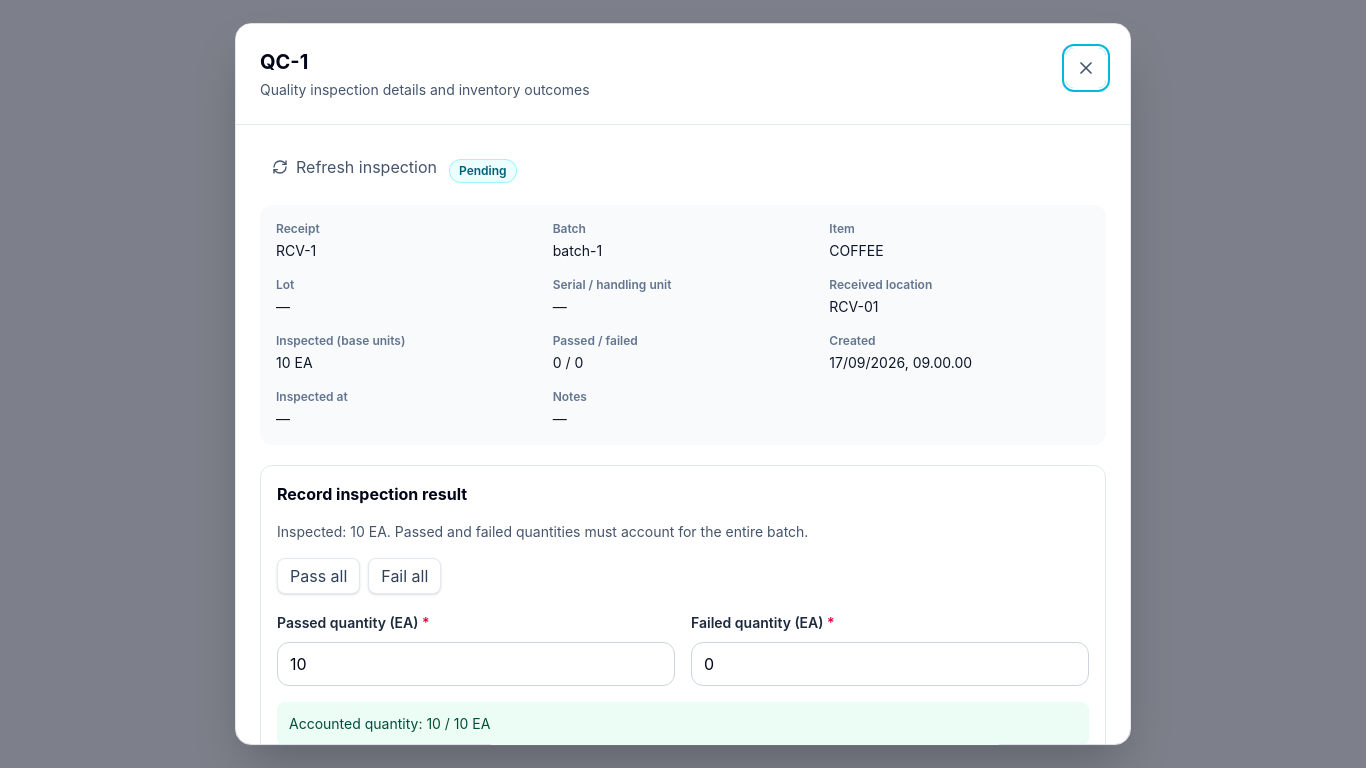
Scenario: QC result workflow › reports an invalid total inline and with a toast before completing a rejection
This screenshot has width=1366, height=768.
Click the button "Fail all". click: (405, 576)
box: 368,558 -> 441,594
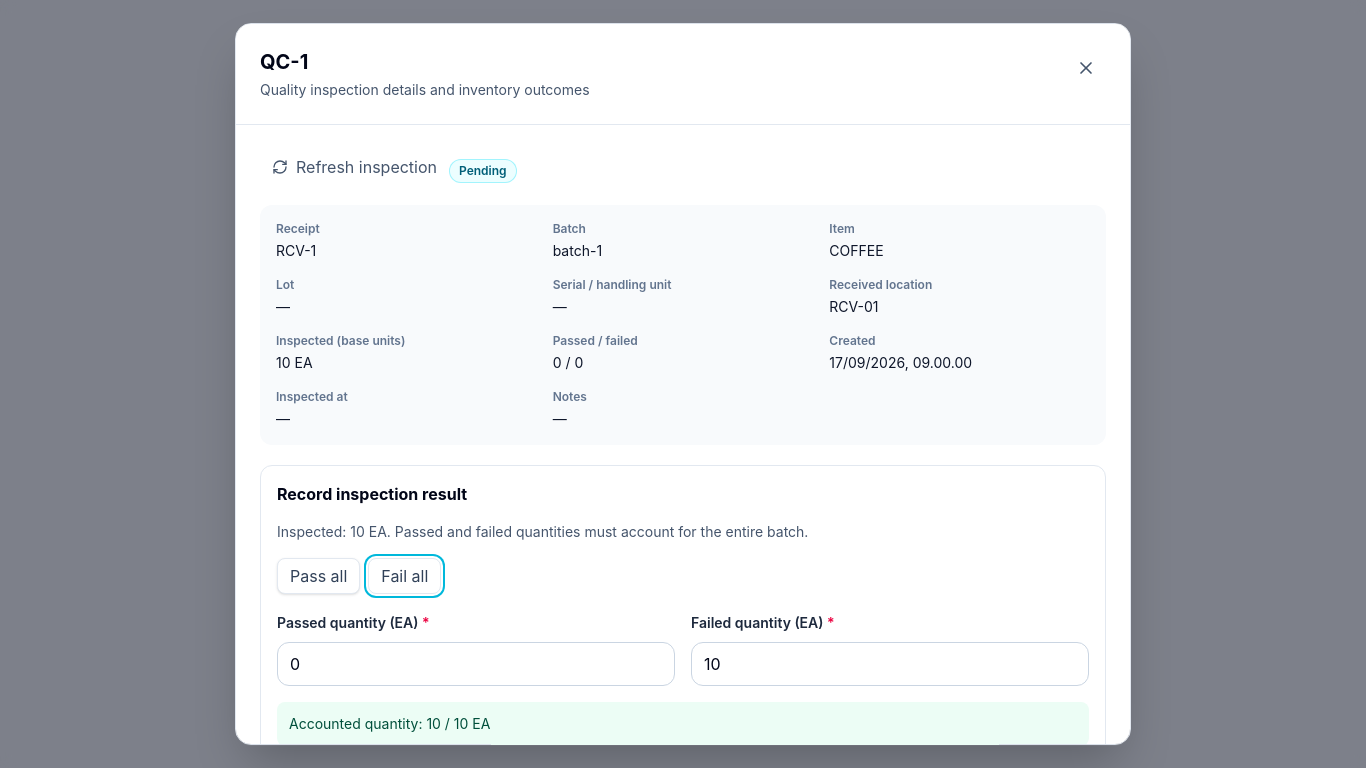
Replace the text in the field labelled "Failed quantity (EA) *" with "9". click: (890, 664)
box: 691,642 -> 1089,686
(page scrolled)
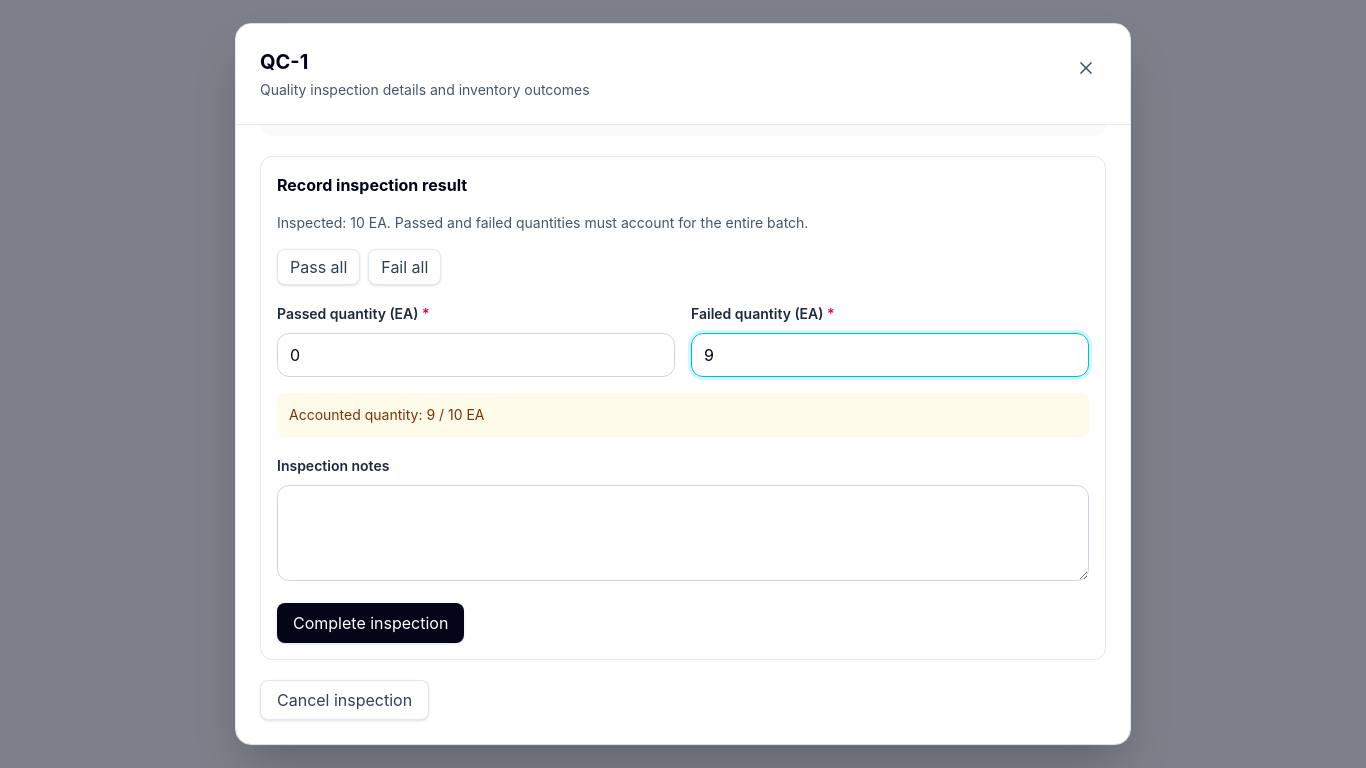
Click the button "Complete inspection". click: (371, 623)
box: 277,603 -> 464,643
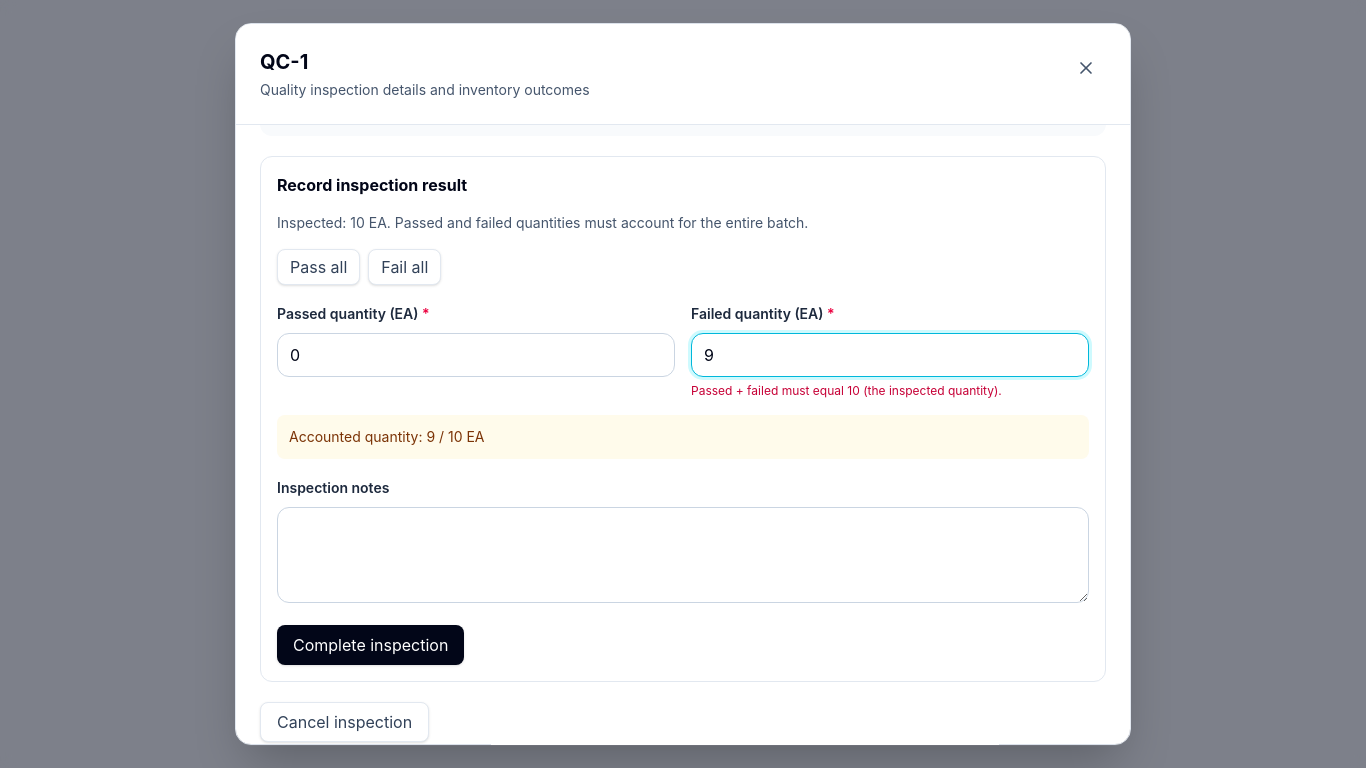
Now the text "Passed + failed must equal 10 (the inspected quantity)." is shown, box 691,383 -> 1002,398
Replace the text in the field labelled "Failed quantity (EA) *" with "10". click: (890, 355)
box: 691,333 -> 1089,377
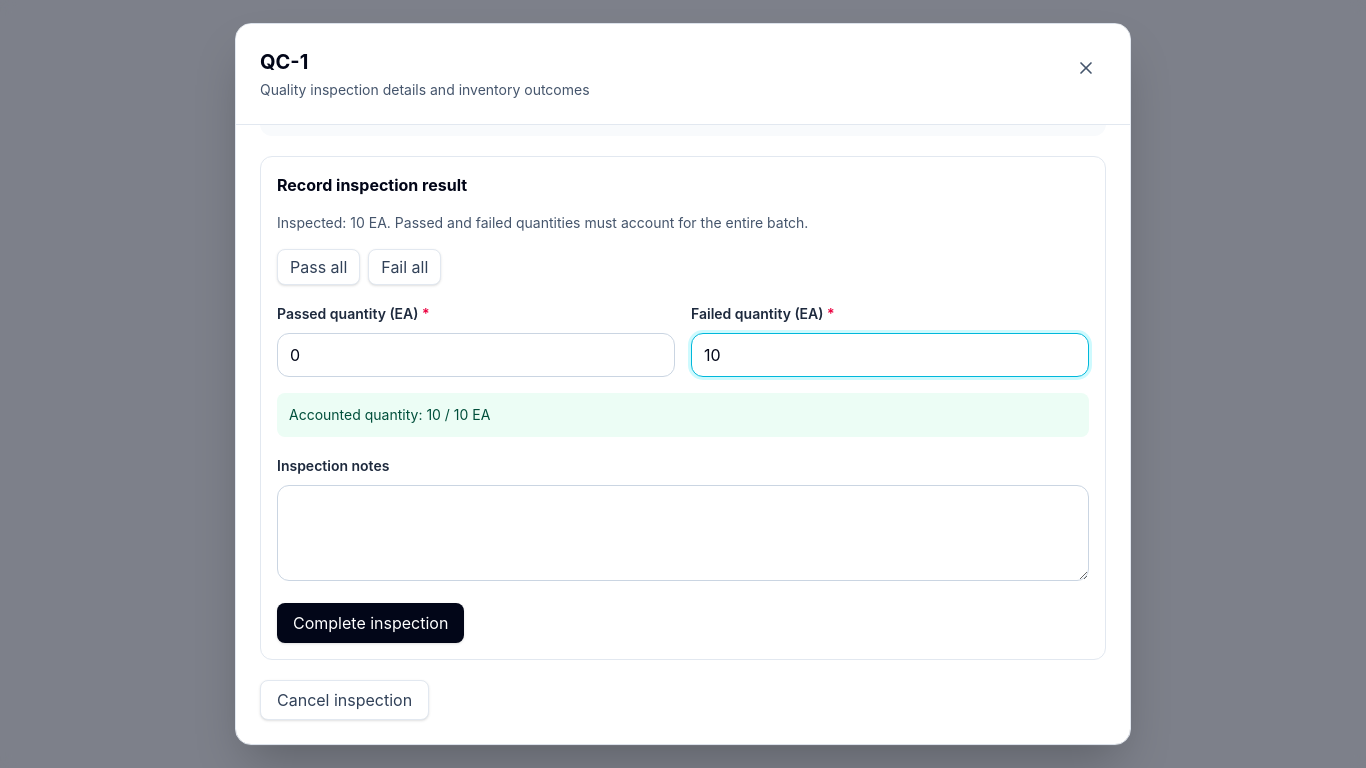
Click the button "Complete inspection". click: (371, 623)
box: 277,603 -> 464,643
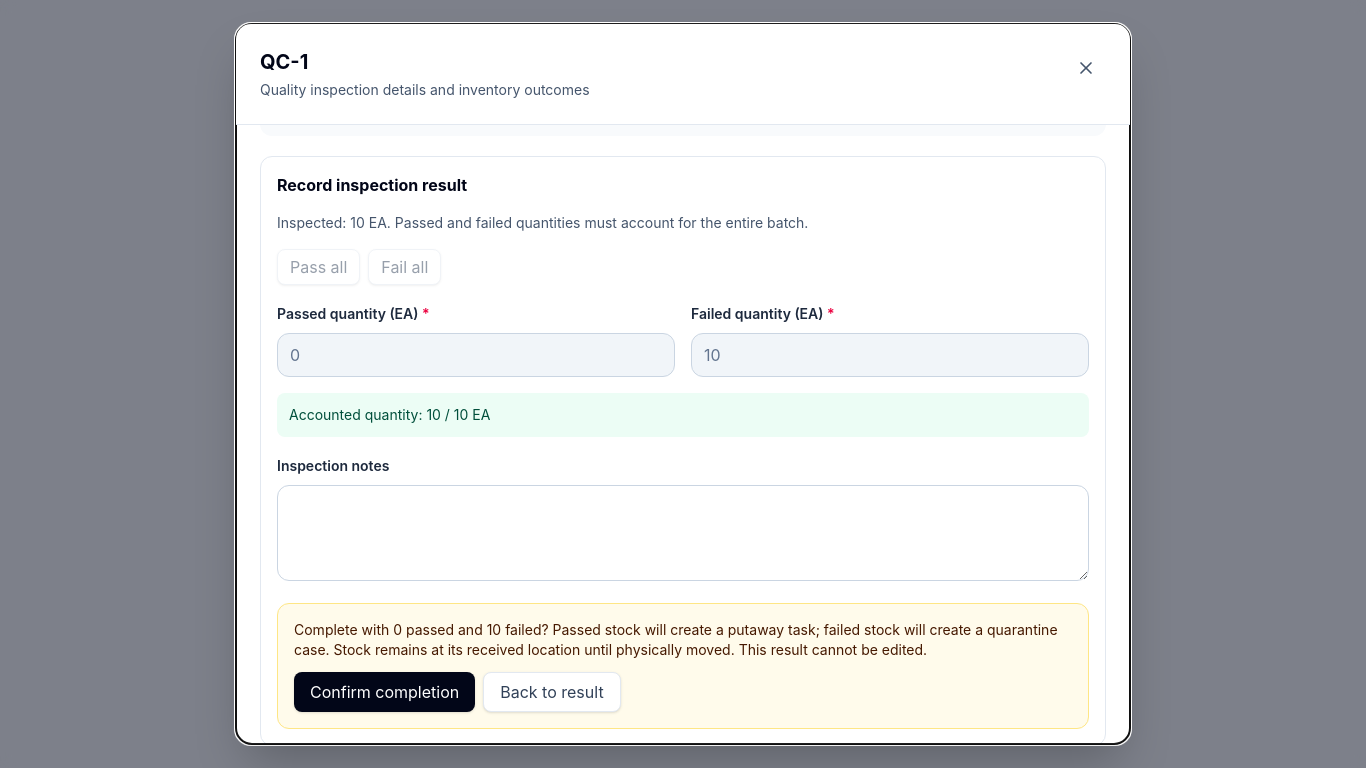
Click the button "Confirm completion". click: (385, 692)
box: 294,672 -> 475,712
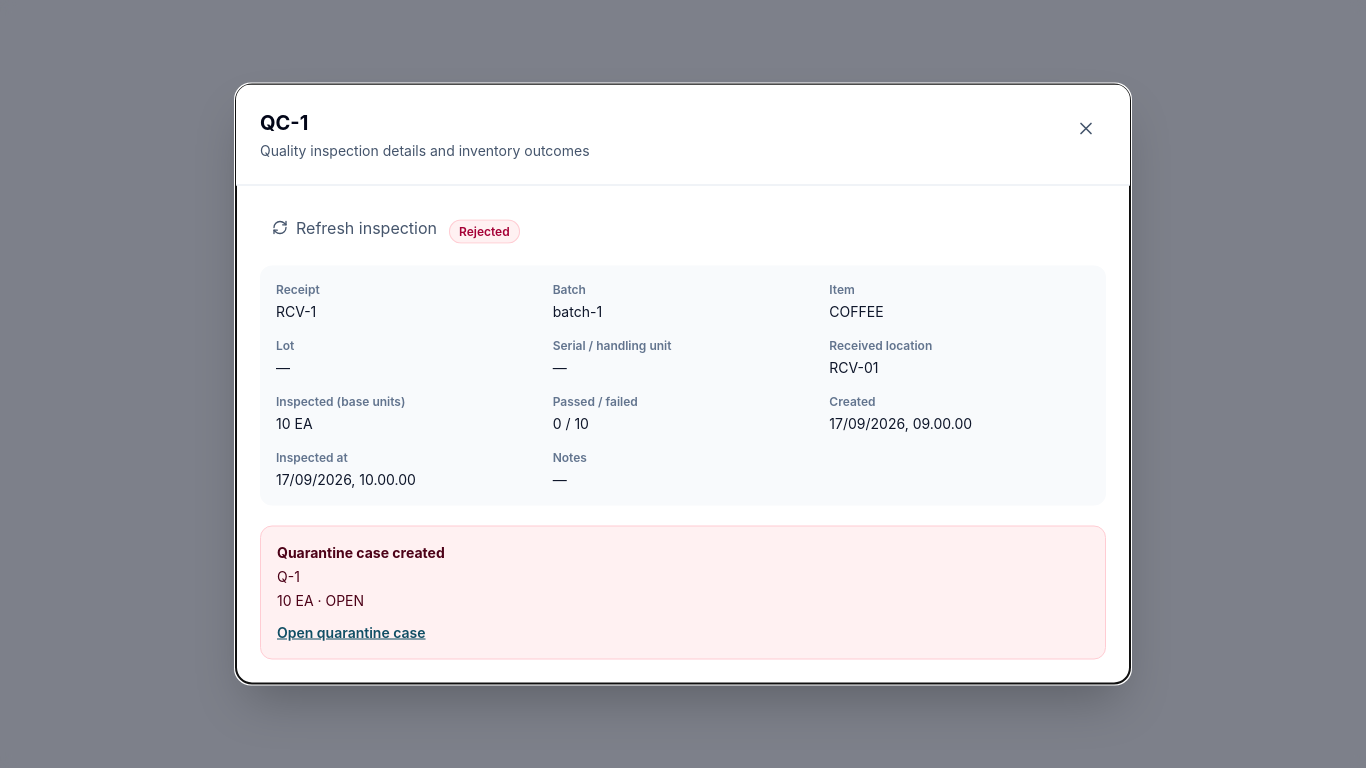
Expected: the button "Complete inspection" is not shown
Now the heading "Quarantine case created" is shown, box 277,544 -> 445,560
